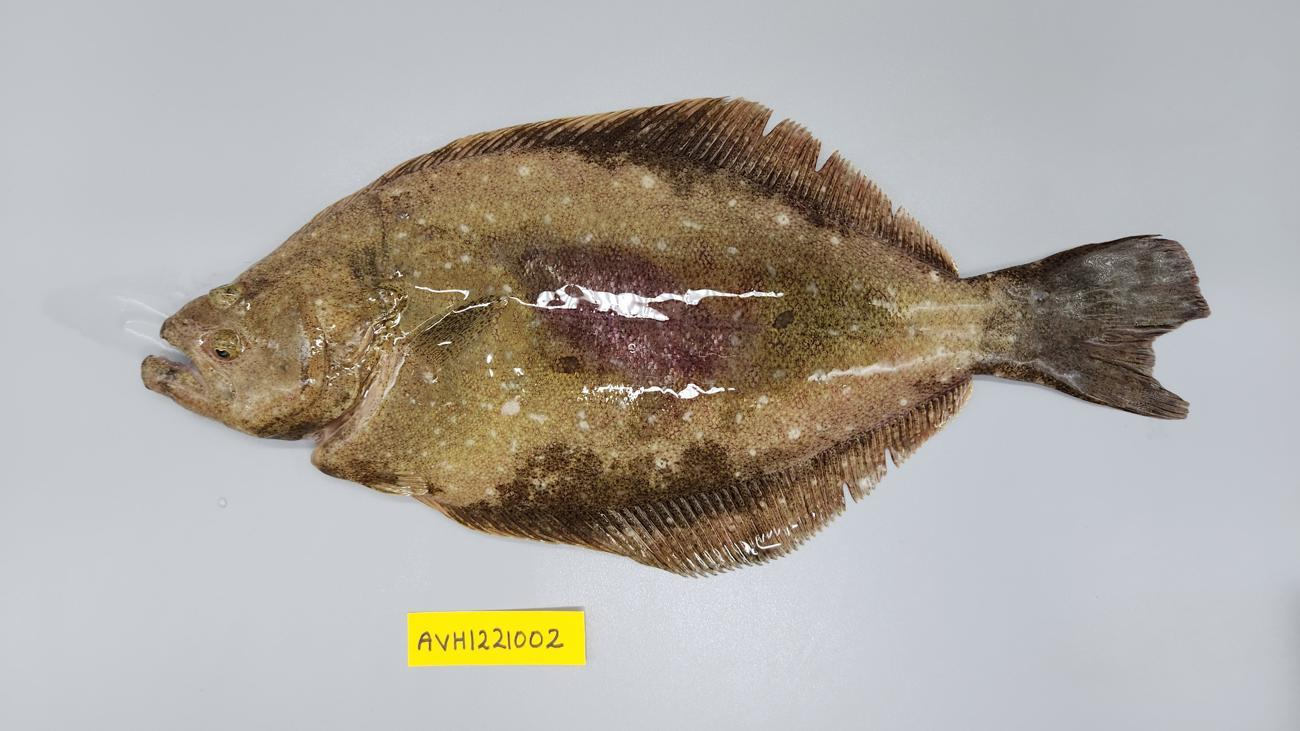VIDYH: (542, 248, 735, 383)
VIDYU: (515, 247, 761, 388)
VIFAH: (504, 387, 960, 577)
VIFCH: (1082, 271, 1200, 301), (1087, 328, 1170, 368)
VIFDH: (616, 97, 916, 259)
VIOUY: (143, 104, 1207, 572)
